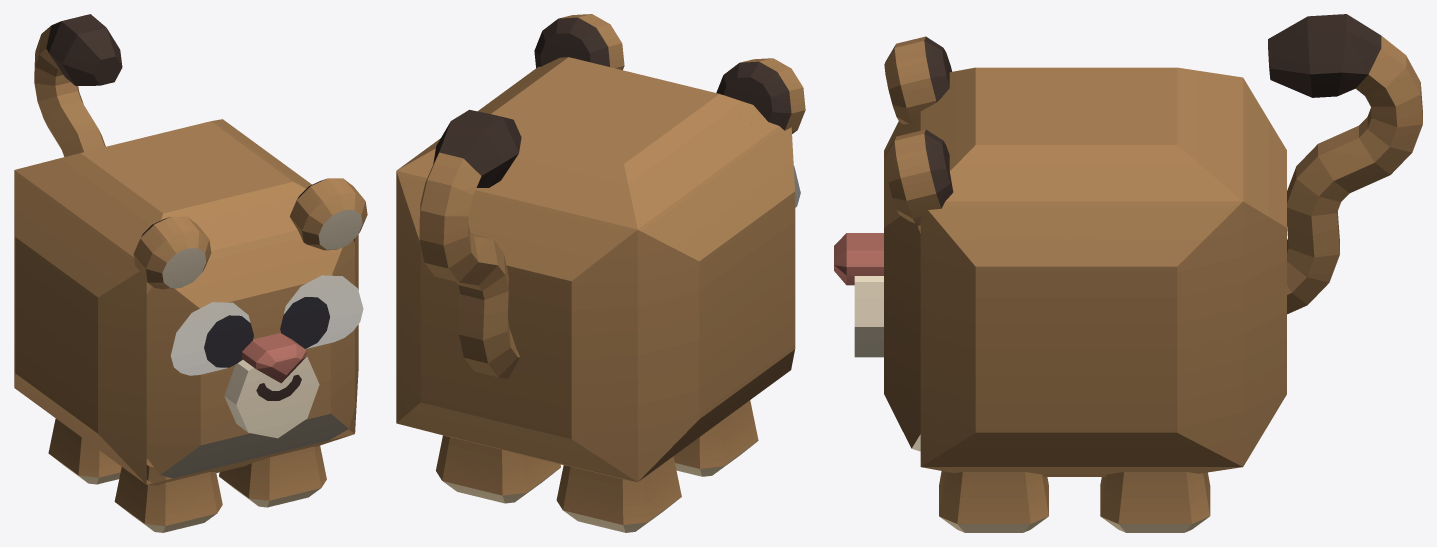
The model's file is onca-parda.glb.
3 views of the same model, side by side, from view 1: azimuth 30°, elevation 25°; view 2: azimuth 150°, elevation 25°; view 3: azimuth 270°, elevation 25° (orthographic). The views are drawn at different scales.
Visible parts, largest first — view 1: head, body, tail, leg-front-right, leg-front-left, leg-back-right; view 2: body, tail, head, leg-back-right, leg-back-left, leg-front-right; view 3: body, head, tail, leg-back-left, leg-front-left.
Boxes of the visible parts, x1,y1,x2,y2 form: head: (98,178,367,485); body: (14,119,354,467); tail: (34,14,122,156); leg-front-right: (114,459,222,532); leg-front-left: (219,445,326,507); leg-back-right: (48,418,121,484); body: (396,57,795,482); tail: (419,109,521,378); head: (524,14,805,388); leg-back-right: (556,456,681,532); leg-back-left: (436,435,560,503); leg-front-right: (673,400,758,476); body: (975,67,1286,476); head: (834,36,975,473); tail: (1268,14,1422,314); leg-back-left: (1100,472,1210,532); leg-front-left: (939,471,1048,532).
Size of the model in its own units: 1.25 by 1.75 by 2.01.
Materials: 1 (1 with a texture image).
